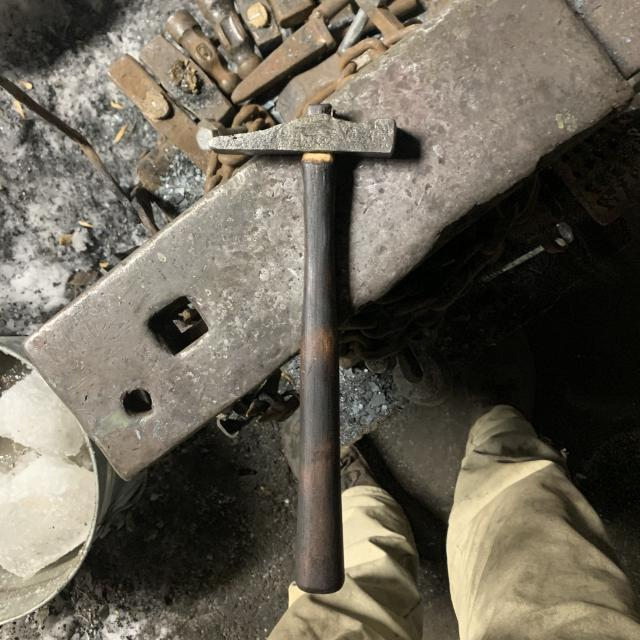hammer: (200, 93, 404, 606)
